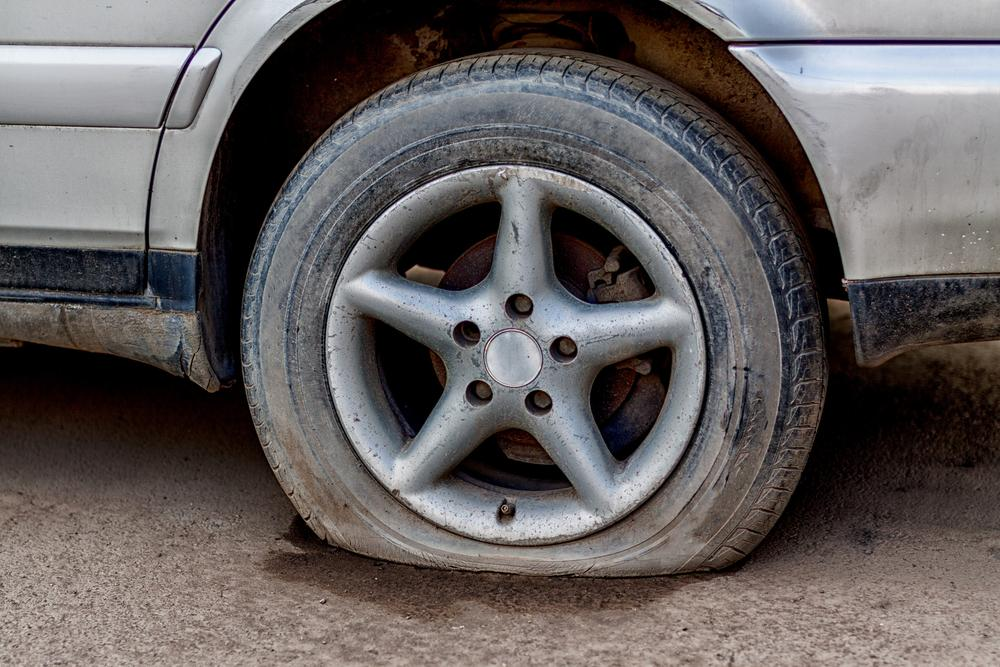tire flat: (243, 44, 830, 578)
